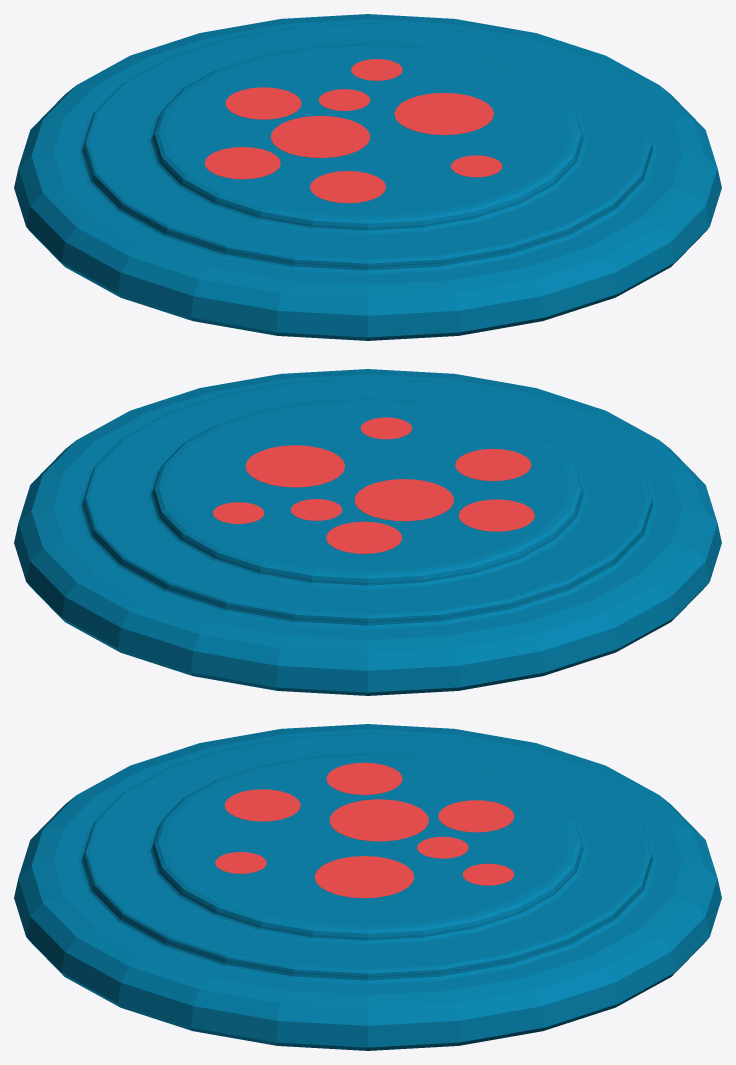
Rendered from 51T1pmZ73vP.glb.
3 views of the same model, one above another, from view 1: azimuth 30°, elevation 25°; view 2: azimuth 150°, elevation 25°; view 3: azimuth 270°, elevation 25° (orthographic).
Parts seen in each view (by area): view 1: Cylinder001, Cylinder002; view 2: Cylinder001, Cylinder002; view 3: Cylinder001, Cylinder002.
Boxes of the visible parts, <box> form: Cylinder001: <box>14,14,721,340</box>; Cylinder002: <box>204,59,502,203</box>; Cylinder001: <box>14,369,721,695</box>; Cylinder002: <box>213,417,534,553</box>; Cylinder001: <box>14,724,721,1050</box>; Cylinder002: <box>215,762,514,898</box>.
Size of the model in its own units: 9.03 by 0.9997 by 9.03.
